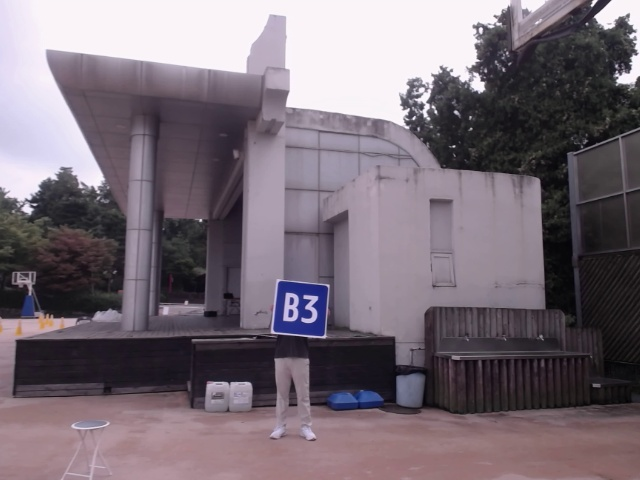delivery_b3: (272, 279, 330, 339)
